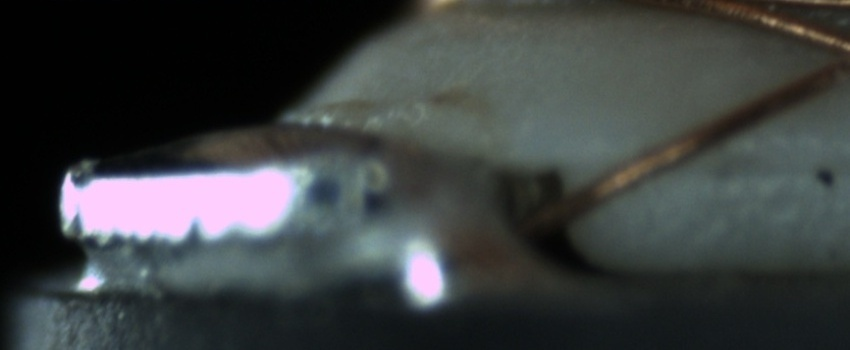CL: (802, 21, 849, 92)
DL: (675, 133, 849, 201)
